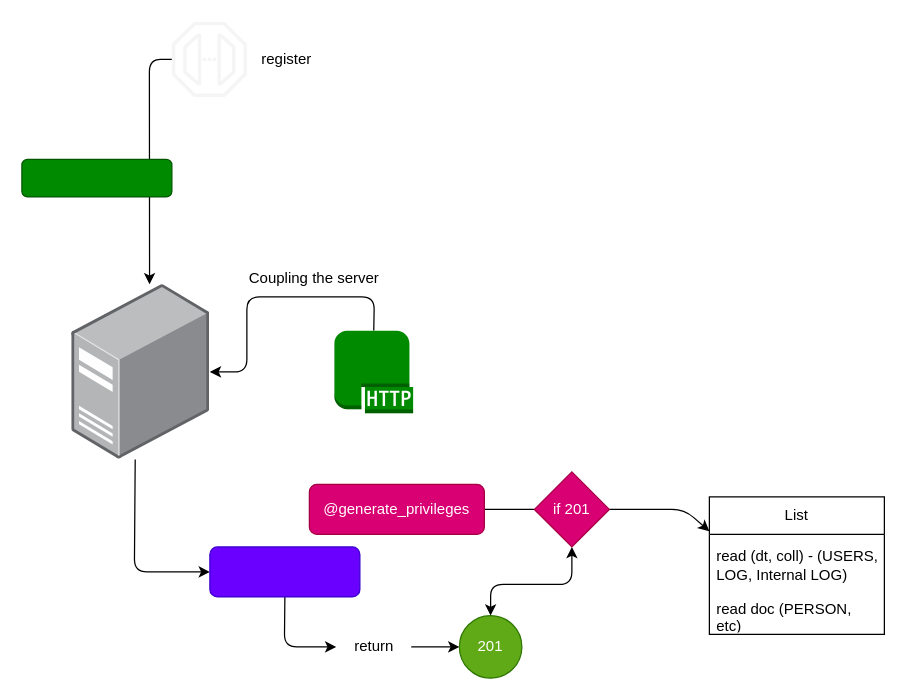
Some shapes in this 906 by 700 pixel diagram are drawn without their labels. The shapes that lost their labels are listed below. From the top down, each one's centre as x and y in pixels, then its label:
At [96,177]: "POST".
At [284,571]: "register( )".
